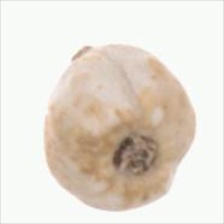L4: (42, 43, 196, 212)
